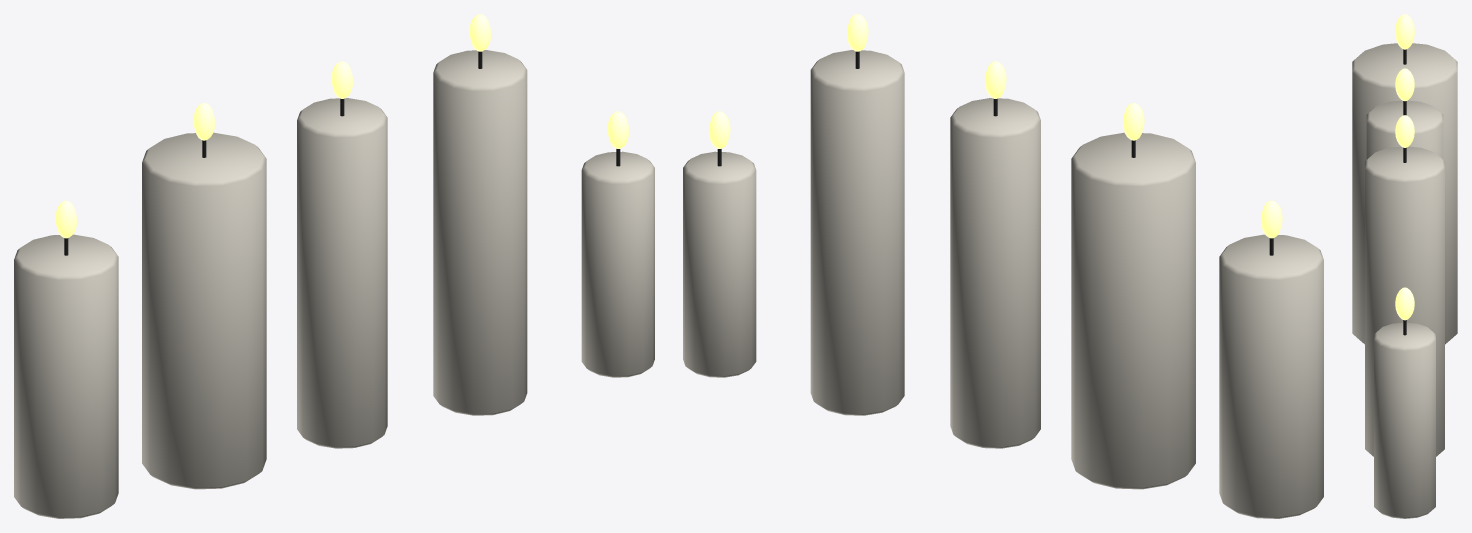
The model's file is i_candles_4.glb.
3 renders of one model, left to right at view 1: azimuth 30°, elevation 25°; view 2: azimuth 150°, elevation 25°; view 3: azimuth 270°, elevation 25°, orthographic. The views are drawn at different scales.
Visible parts, largest first — view 1: o.003, o.009, o.006, o, o.012; view 2: o.003, o.009, o.006, o, o.012; view 3: o.009, o.003, o.012, o.006, o.011, o.005, o.008, o.014.
Part boxes in pixels (left/top/right/bottom): o.003: left=142, top=132, right=266, bottom=489; o.009: left=433, top=50, right=527, bottom=415; o.006: left=297, top=98, right=387, bottom=448; o: left=14, top=234, right=118, bottom=518; o.012: left=581, top=151, right=654, bottom=377; o.003: left=1071, top=132, right=1195, bottom=489; o.009: left=810, top=50, right=904, bottom=415; o.006: left=950, top=98, right=1040, bottom=448; o: left=1219, top=234, right=1323, bottom=518; o.012: left=683, top=151, right=756, bottom=377; o.009: left=1365, top=146, right=1444, bottom=456; o.003: left=1352, top=43, right=1457, bottom=344; o.012: left=1374, top=322, right=1435, bottom=518; o.006: left=1366, top=100, right=1443, bottom=159; o.011: left=1395, top=115, right=1414, bottom=147; o.005: left=1395, top=17, right=1414, bottom=49; o.008: left=1395, top=68, right=1414, bottom=101; o.014: left=1395, top=287, right=1414, bottom=320.
Size of the model in its own units: 0.3876 by 0.2255 by 0.0649.
